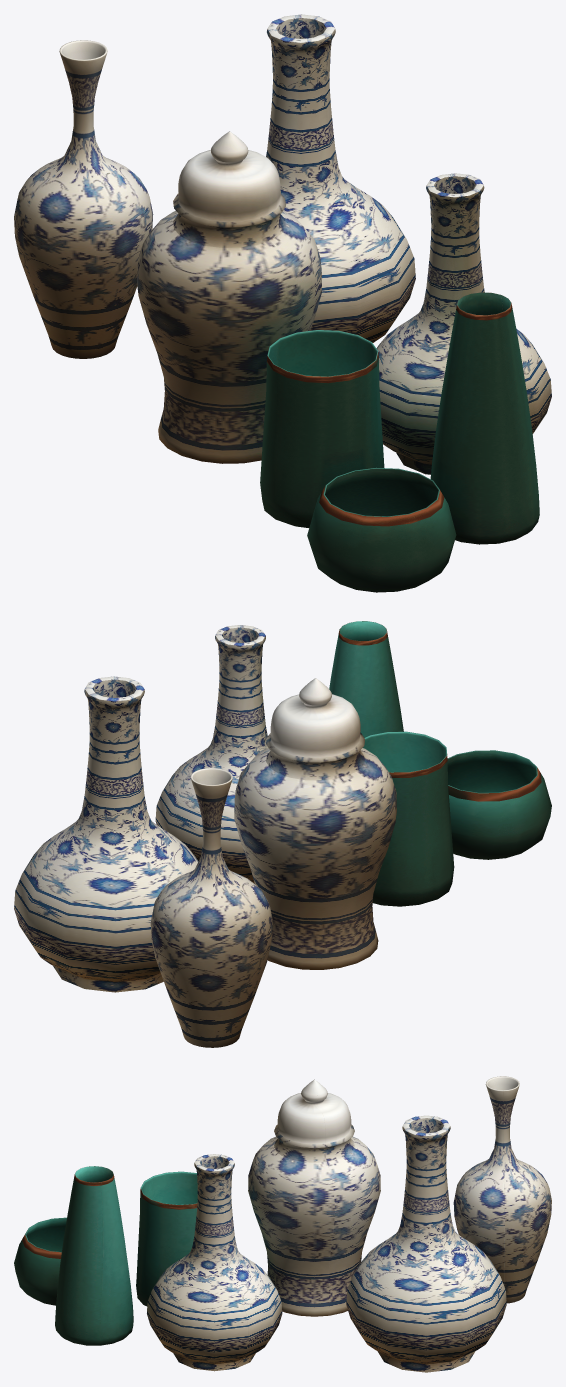
File: Museum_Displaytable_Props_02.FBX
3 renders of one model, top to bottom at view 1: azimuth 30°, elevation 25°; view 2: azimuth 150°, elevation 25°; view 3: azimuth 270°, elevation 25°, orthographic. The views are drawn at different scales.
Parts seen in each view (by area): view 1: Museum_Displaytable_Props_02; view 2: Museum_Displaytable_Props_02; view 3: Museum_Displaytable_Props_02.
Boxes of the visible parts, x1,y1,x2,y2 form: Museum_Displaytable_Props_02: (14,14,551,592); Museum_Displaytable_Props_02: (14,621,551,1047); Museum_Displaytable_Props_02: (14,1076,551,1372).
Bounding box in the file's own units: 454 × 411 × 883.
1 material, 1 textured.
